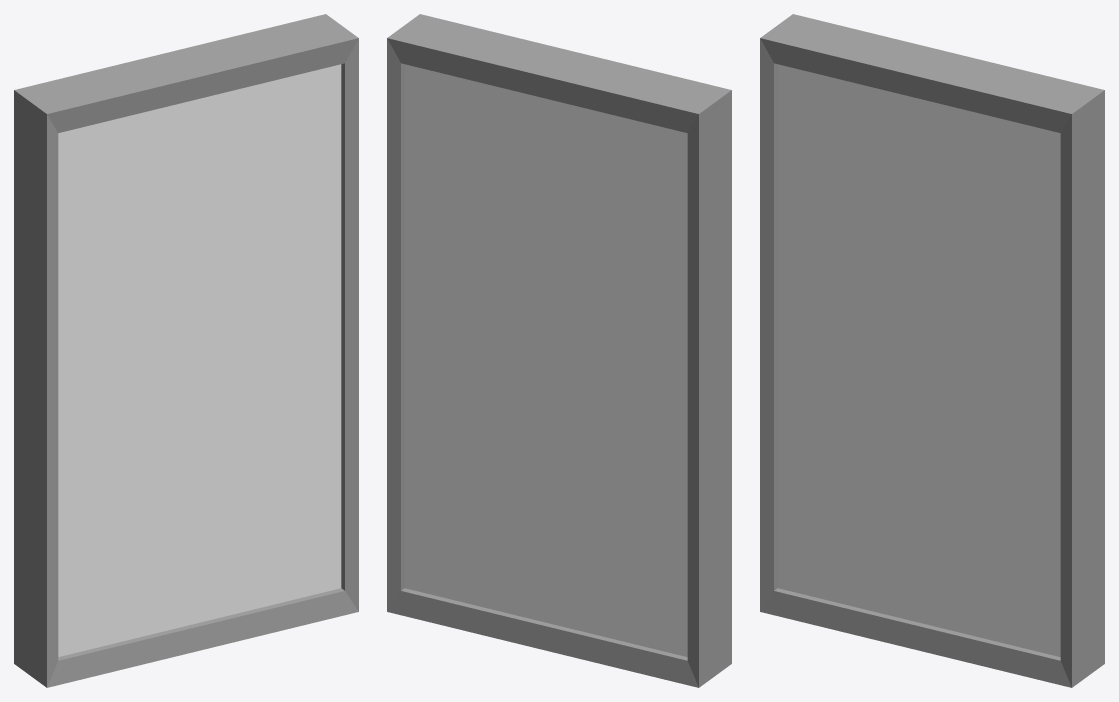
Rendered from mod_house_window.fbx.
3 views of the same model, side by side, from view 1: azimuth 30°, elevation 25°; view 2: azimuth 150°, elevation 25°; view 3: azimuth 330°, elevation 25° (orthographic).
Visible parts, largest first — view 1: mod_house_window; view 2: mod_house_window; view 3: mod_house_window.
Boxes of the visible parts, x1,y1,x2,y2 form: mod_house_window: (14,14,358,687); mod_house_window: (387,14,731,687); mod_house_window: (760,14,1104,687).
Size of the model in its own units: 0.5687 by 1 by 0.104.
